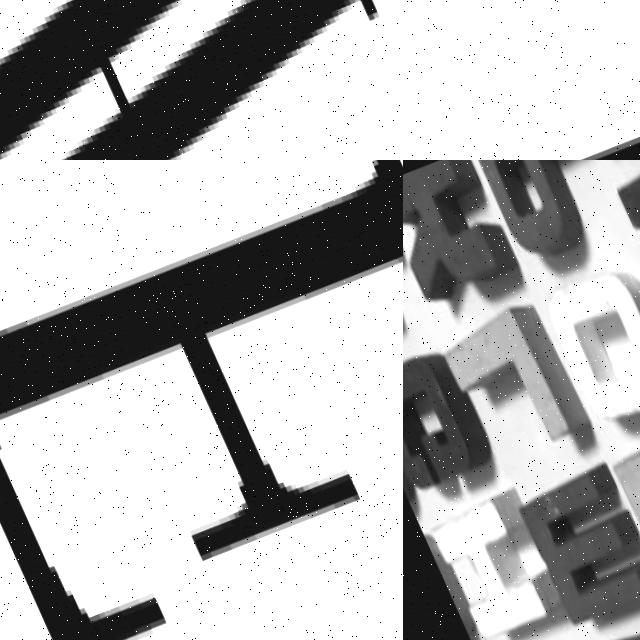E: (0, 160, 403, 557)
F: (403, 0, 640, 160), (403, 205, 429, 362)
G: (403, 351, 484, 496)
H: (0, 0, 403, 160), (422, 482, 552, 640)
K: (403, 160, 513, 309)
L: (432, 293, 595, 480)
M: (511, 460, 640, 627)
P: (467, 160, 622, 273)
Q: (537, 253, 640, 436)
R: (606, 419, 640, 598)
